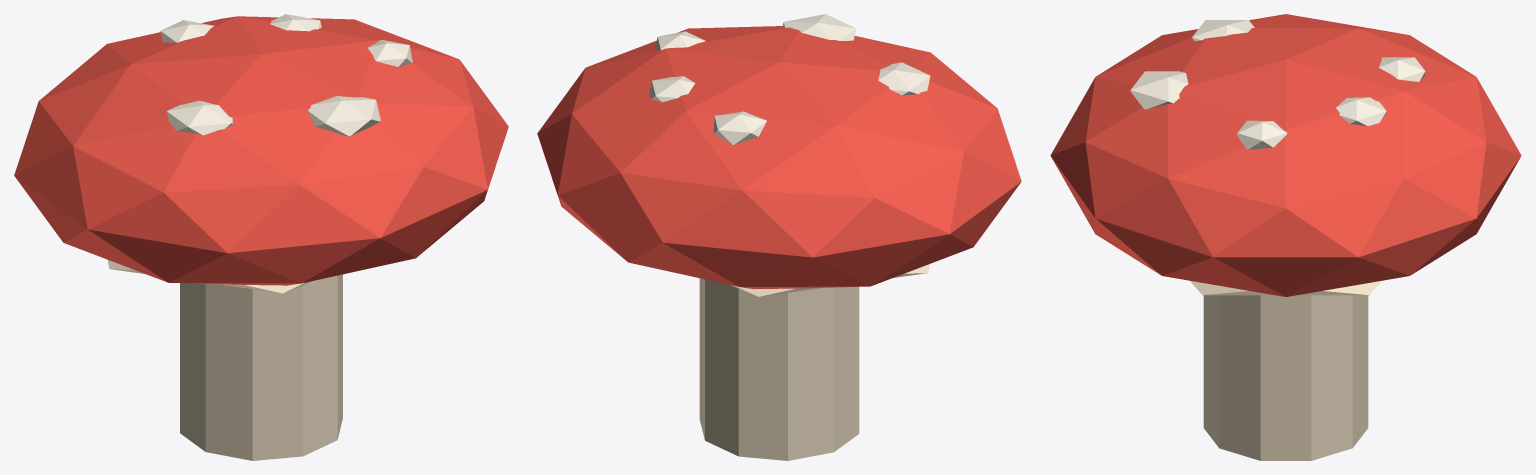
The model's file is mushroom.glb.
The picture shows the model from 3 angles, left to right: view 1: azimuth 30°, elevation 25°; view 2: azimuth 150°, elevation 25°; view 3: azimuth 270°, elevation 25°; orthographic projection. The views are drawn at different scales.
Parts seen in each view (by area): view 1: broad red mushroom cap, chunky mushroom stem, white mushroom spot.002, white mushroom spot, white mushroom spot.003, white mushroom spot.004, white mushroom spot.001, cream cap underside; view 2: broad red mushroom cap, chunky mushroom stem, white mushroom spot.004, white mushroom spot.002, white mushroom spot, white mushroom spot.001, white mushroom spot.003, cream cap underside; view 3: broad red mushroom cap, chunky mushroom stem, white mushroom spot.002, cream cap underside, white mushroom spot.001, white mushroom spot.003, white mushroom spot, white mushroom spot.004.
Part boxes in pixels (x1,y1,x2,y2): broad red mushroom cap: (14,16,508,285); chunky mushroom stem: (180,274,342,460); white mushroom spot.002: (308,96,380,136); white mushroom spot: (166,100,233,135); white mushroom spot.003: (368,39,412,66); white mushroom spot.004: (160,20,214,42); white mushroom spot.001: (270,14,321,31); cream cap underside: (107,259,310,293); broad red mushroom cap: (537,26,1021,289); chunky mushroom stem: (699,278,859,460); white mushroom spot.004: (713,111,766,144); white mushroom spot.002: (782,14,856,40); white mushroom spot: (878,62,930,95); white mushroom spot.001: (649,76,695,102); white mushroom spot.003: (655,31,705,50); cream cap underside: (731,264,930,296); broad red mushroom cap: (1050,14,1521,296); chunky mushroom stem: (1203,295,1368,460); white mushroom spot.002: (1130,71,1188,109); cream cap underside: (1190,281,1381,295); white mushroom spot.001: (1336,97,1386,126); white mushroom spot.003: (1237,120,1287,149); white mushroom spot: (1192,20,1254,41); white mushroom spot.004: (1379,57,1425,81).
Size of the model in its own units: 0.8179 by 0.69 by 0.8.
